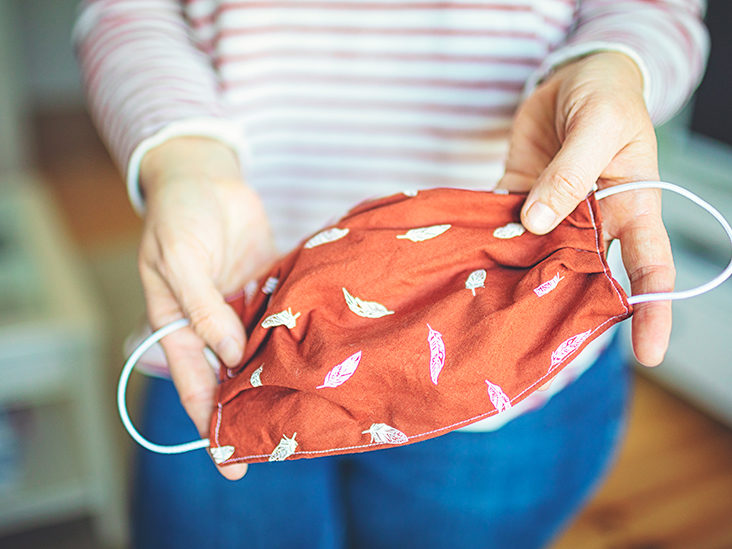mask: (116, 185, 732, 496)
